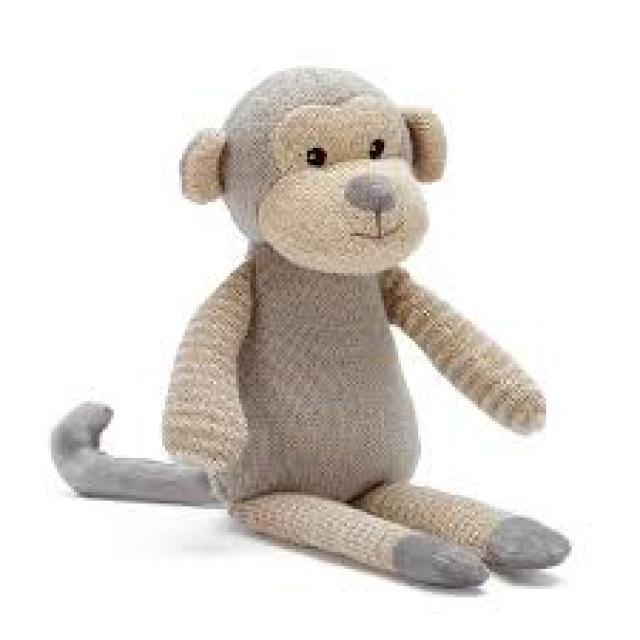soft-toy: (54, 68, 569, 587)
